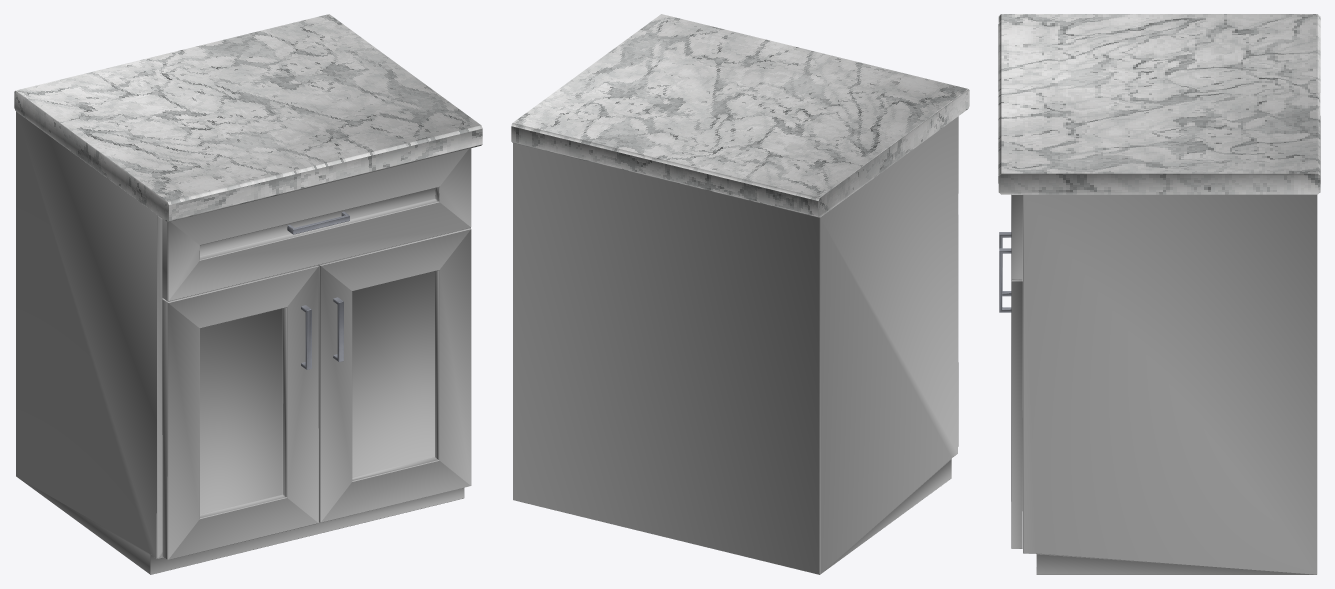
The model's file is counter.glb.
3 renders of one model, left to right at view 1: azimuth 30°, elevation 25°; view 2: azimuth 150°, elevation 25°; view 3: azimuth 270°, elevation 25°, orthographic. The views are drawn at different scales.
Parts seen in each view (by area): view 1: Cabinet_Base_DD_01, Counter_02, Door_L.014, Door_L.016, Drawer.004; view 2: Cabinet_Base_DD_01, Counter_02; view 3: Cabinet_Base_DD_01, Counter_02, Door_L.016, Drawer.004.
Part boxes in pixels (box(x1,y1,x2,y2)): Cabinet_Base_DD_01: box(16, 111, 470, 574); Counter_02: box(14, 14, 482, 222); Door_L.014: box(162, 265, 318, 559); Door_L.016: box(318, 228, 471, 522); Drawer.004: box(162, 148, 471, 301); Cabinet_Base_DD_01: box(513, 116, 958, 574); Counter_02: box(511, 14, 969, 217); Cabinet_Base_DD_01: box(1023, 194, 1317, 574); Counter_02: box(998, 14, 1320, 194); Door_L.016: box(1011, 279, 1022, 548); Drawer.004: box(1011, 194, 1022, 279).
Bounding box in the file's own units: 0.7666 × 0.9 × 0.6539.
Materials: 3 (2 with a texture image).
